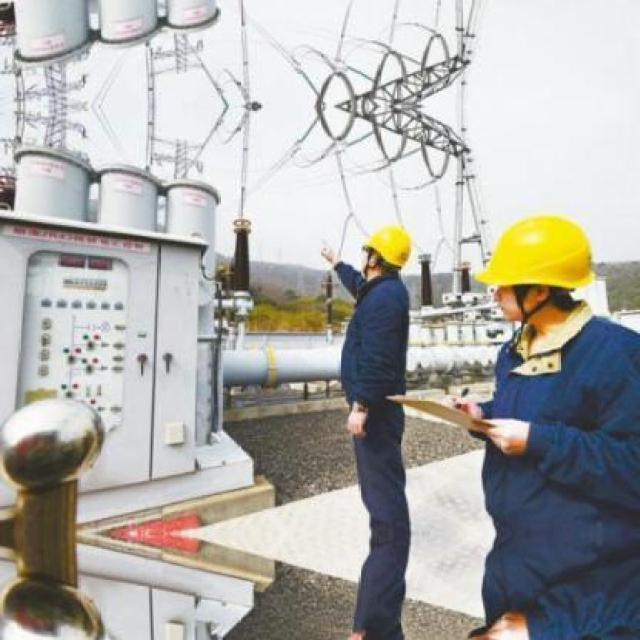helmet: (466, 210, 609, 302), (357, 216, 420, 279)
